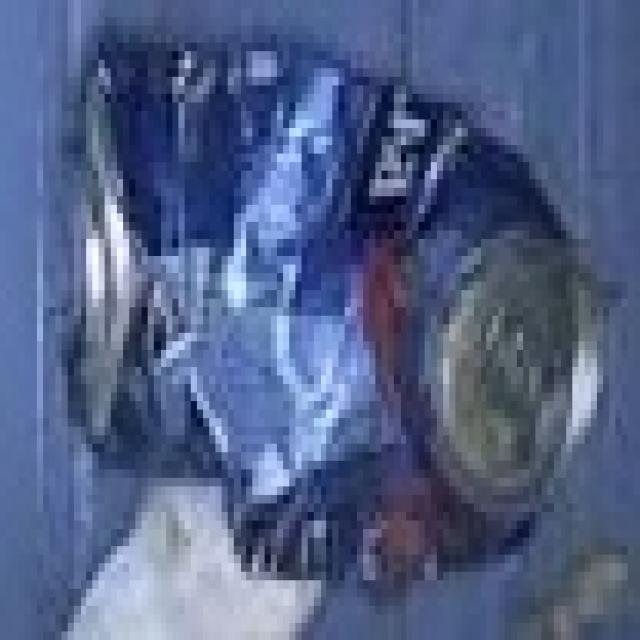litter: (49, 12, 640, 625)
